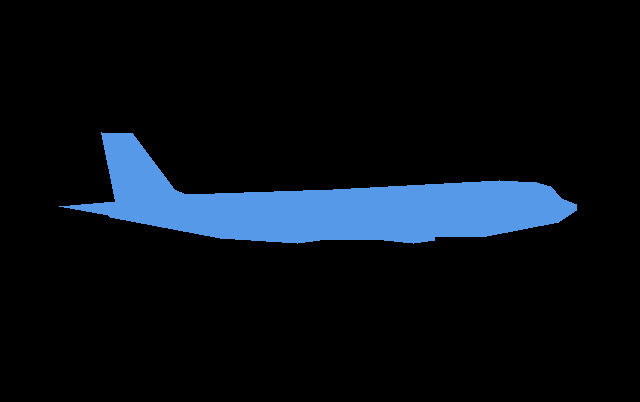Airplane: (59, 132, 577, 243)
